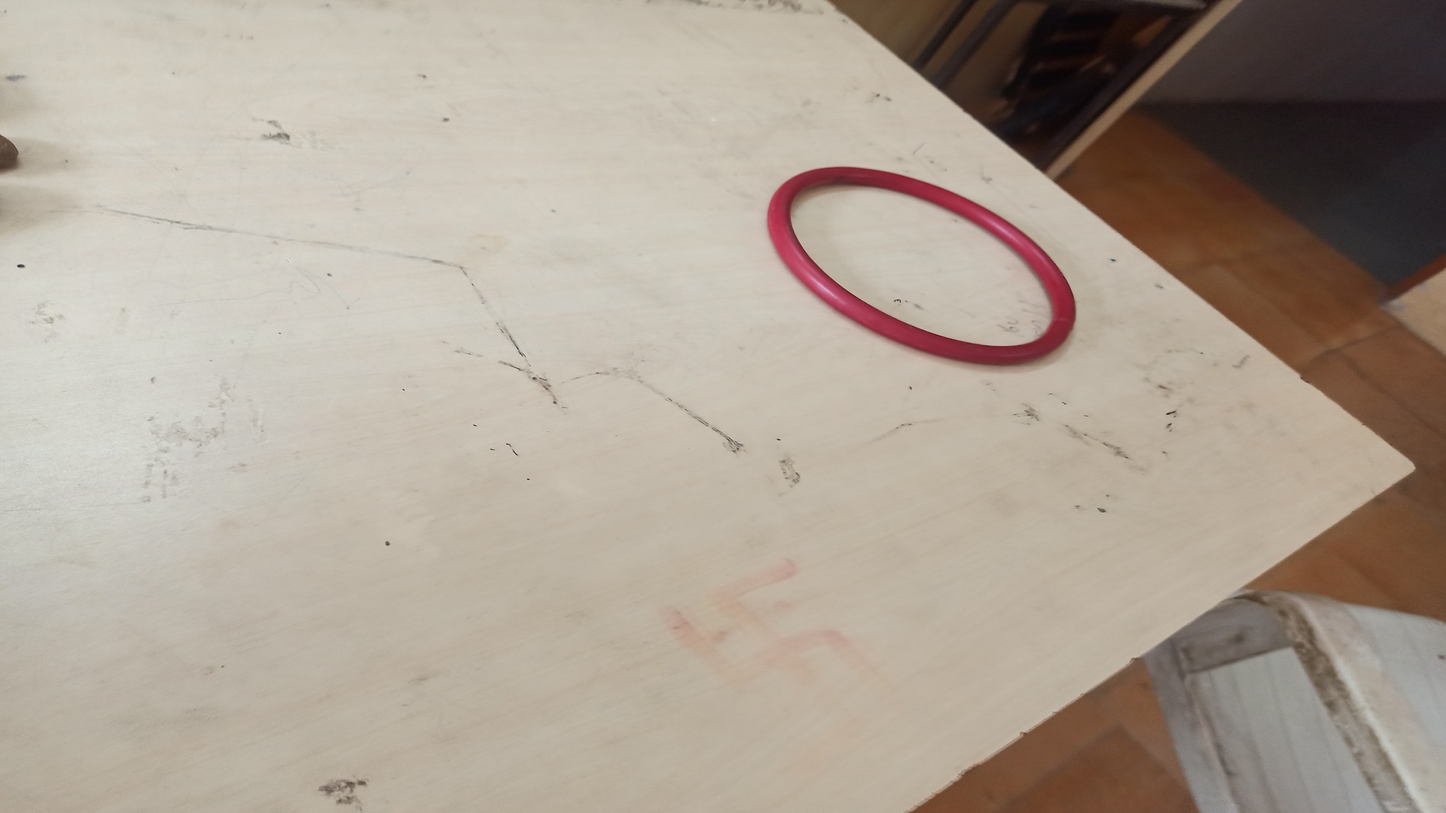Red ring: (767, 165, 1078, 368)
